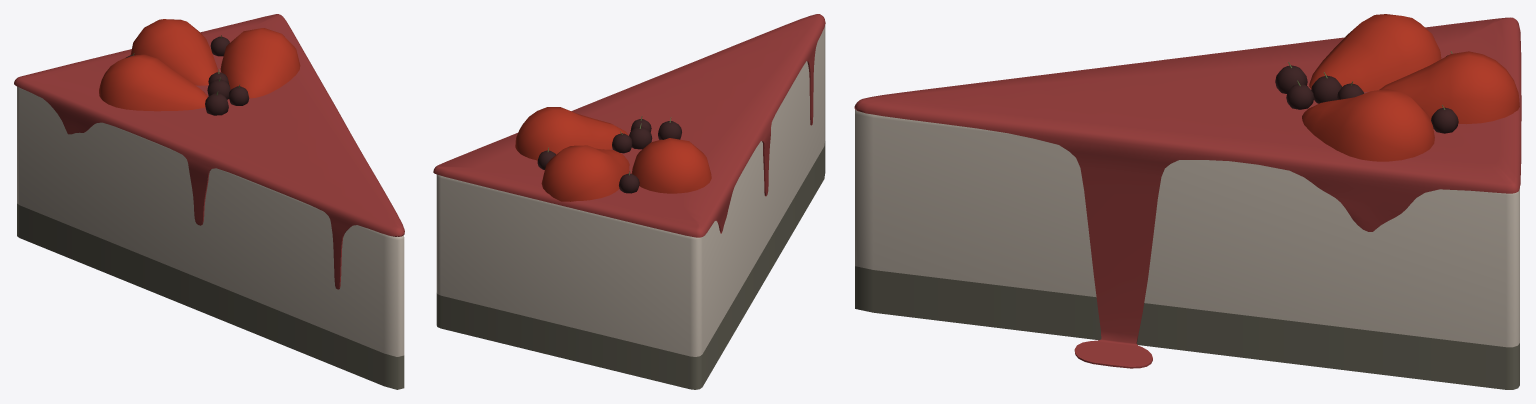
File: cake (1).glb
3 renders of one model, left to right at view 1: azimuth 30°, elevation 25°; view 2: azimuth 150°, elevation 25°; view 3: azimuth 270°, elevation 25°, orthographic. The views are drawn at different scales.
Parts seen in each view (by area): view 1: Cake, Fruit_coulis, Strawberry_1, Strawberry_3, Strawberry_2, Berry_1, Berry_2; view 2: Cake, Fruit_coulis, Strawberry_2, Strawberry_3, Strawberry_1, Berry_3, Berry_1, Berry_5, Berry_4; view 3: Cake, Fruit_coulis, Strawberry_3, Strawberry_1, Strawberry_2, Berry_3, Berry_1, Berry_2, Berry_6.
Boxes of the visible parts, x1=… form: Cake: x1=17, y1=86, x2=404, y2=389; Fruit_coulis: x1=14, y1=14, x2=404, y2=289; Strawberry_1: x1=99, y1=54, x2=207, y2=111; Strawberry_3: x1=220, y1=28, x2=300, y2=98; Strawberry_2: x1=130, y1=19, x2=217, y2=85; Berry_1: x1=205, y1=91, x2=228, y2=115; Berry_2: x1=228, y1=85, x2=249, y2=105; Cake: x1=436, y1=25, x2=825, y2=389; Fruit_coulis: x1=433, y1=14, x2=825, y2=237; Strawberry_2: x1=541, y1=145, x2=629, y2=201; Strawberry_3: x1=515, y1=107, x2=628, y2=160; Strawberry_1: x1=631, y1=138, x2=711, y2=193; Berry_3: x1=629, y1=123, x2=652, y2=149; Berry_1: x1=658, y1=117, x2=681, y2=139; Berry_5: x1=619, y1=170, x2=639, y2=193; Berry_4: x1=612, y1=131, x2=632, y2=153; Cake: x1=855, y1=109, x2=1519, y2=389; Fruit_coulis: x1=854, y1=17, x2=1521, y2=368; Strawberry_3: x1=1302, y1=89, x2=1434, y2=161; Strawberry_1: x1=1309, y1=14, x2=1441, y2=92; Strawberry_2: x1=1379, y1=51, x2=1519, y2=124; Berry_3: x1=1311, y1=72, x2=1341, y2=103; Berry_1: x1=1275, y1=62, x2=1307, y2=93; Berry_2: x1=1286, y1=80, x2=1313, y2=109; Berry_6: x1=1431, y1=105, x2=1458, y2=133.
Size of the model in its own units: 0.3807 by 0.2635 by 0.6288.
